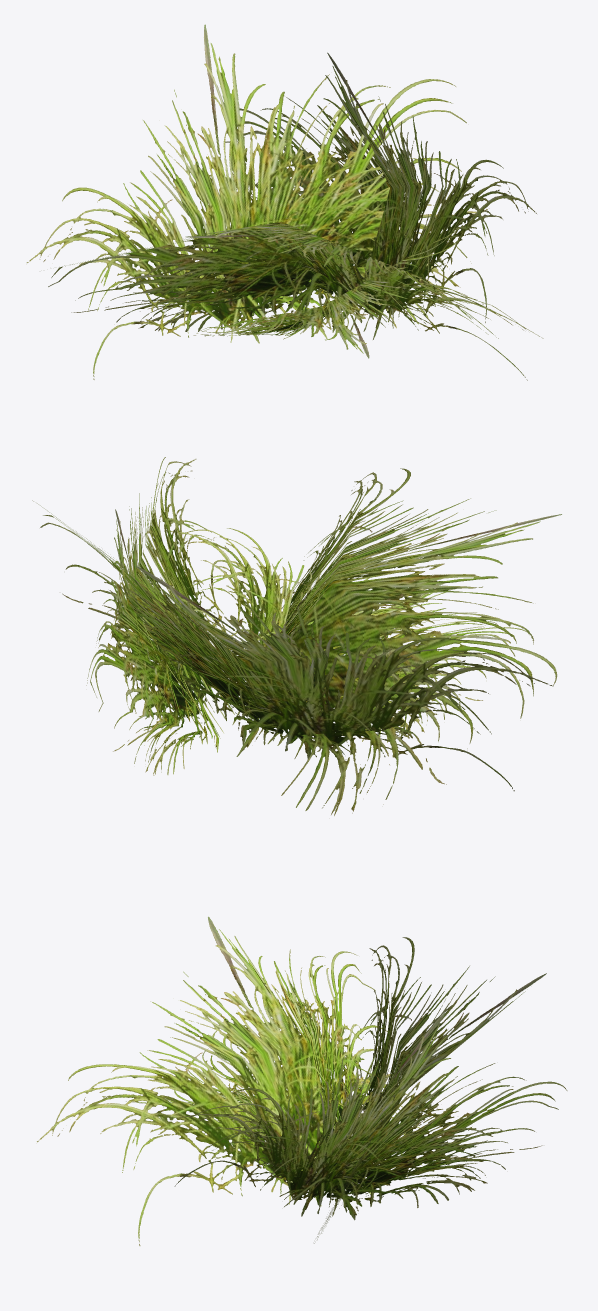
The model's file is LE_Grass04.fbx.
The picture shows the model from 3 angles, top to bottom: view 1: azimuth 30°, elevation 25°; view 2: azimuth 150°, elevation 25°; view 3: azimuth 270°, elevation 25°; orthographic projection. The views are drawn at different scales.
Parts seen in each view (by area): view 1: LE_Grass04; view 2: LE_Grass04; view 3: LE_Grass04.
Boxes of the visible parts, x1,y1,x2,y2 form: LE_Grass04: (26, 24, 543, 380); LE_Grass04: (32, 457, 561, 815); LE_Grass04: (37, 916, 567, 1245).
Size of the model in its own units: 0.9552 by 0.5217 by 1.04.
